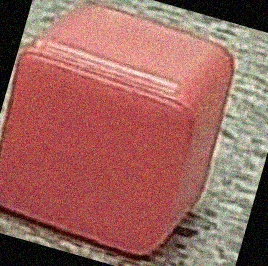red_cube: (4, 8, 239, 260)
